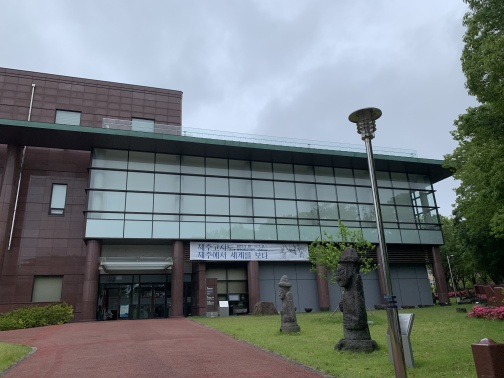Museum: (1, 126, 443, 309), (2, 65, 277, 330)
